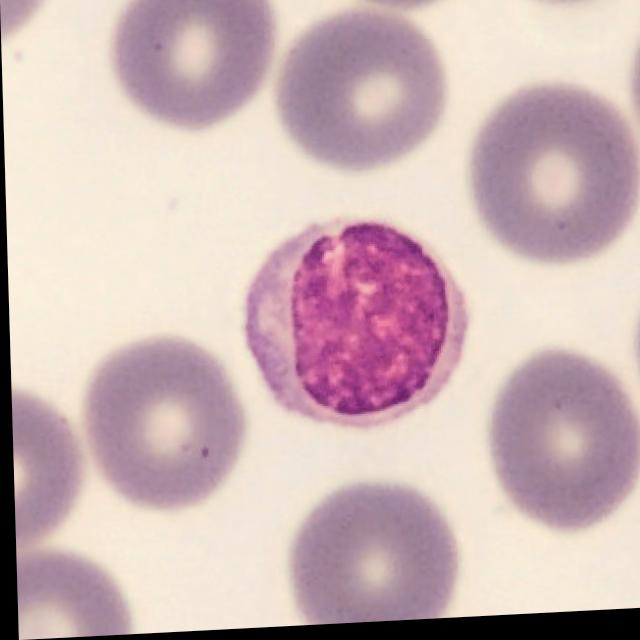Linfocito: (241, 223, 468, 431)
